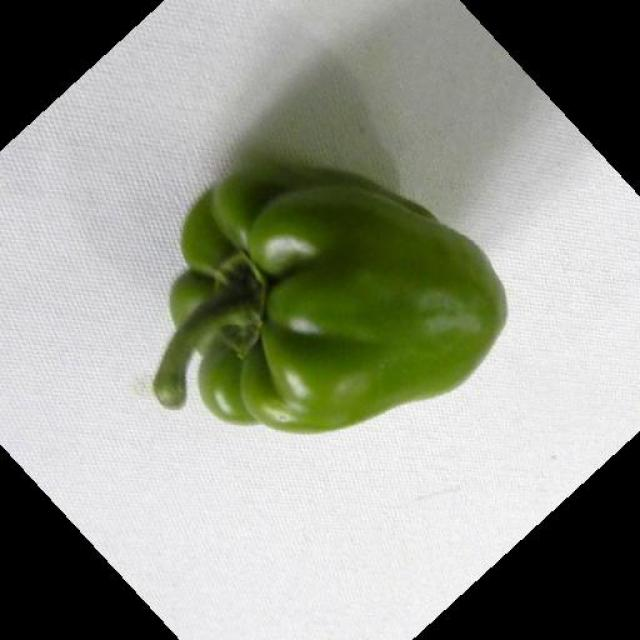Fresh_Capsicum: (163, 162, 496, 425)
